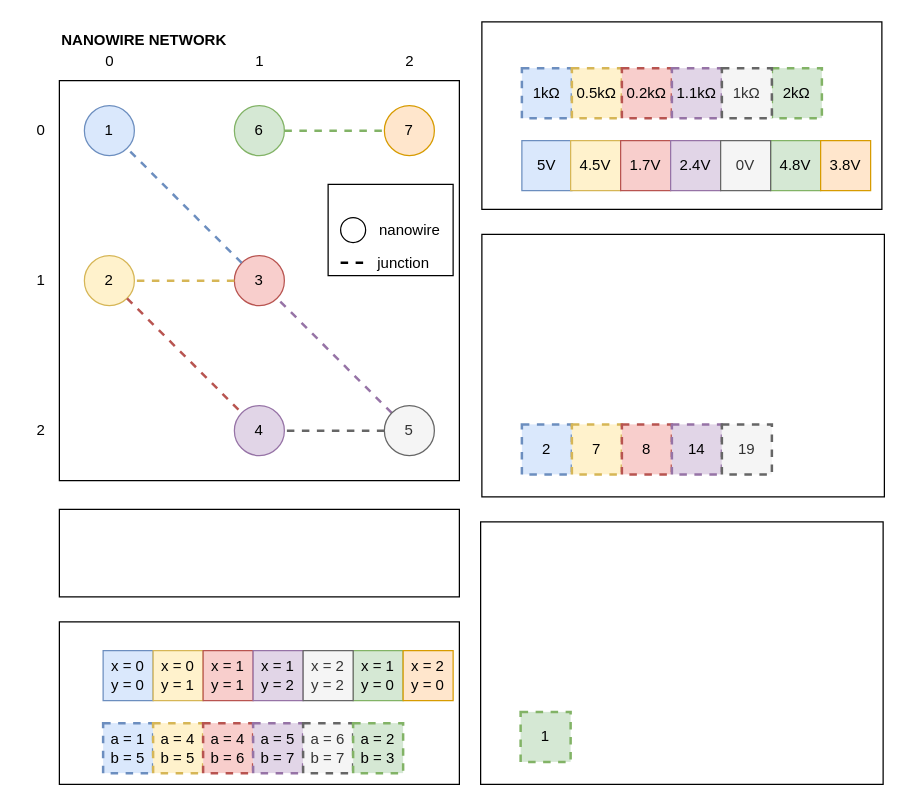
Image size: 906x806. Some labels were removed from this diagram. The box of each missing label's shape, as (x1, y1, x2, y2) in pixels:
CONNECTED COMPONENT "0" ws_count = 5 js_count = 5 ws_skip = 0 js_skip = 0 Is =: (481, 233, 884, 497)
CONNECTED COMPONENT "1" ws_count = 2 js_count = 1 ws_skip = 5 js_skip = 5 Is =: (479, 521, 883, 784)
DATASHEET wires_count = 7 ...: (58, 508, 459, 597)
Legend: (327, 183, 453, 276)
NETWORK STATE Ys = Vs =: (481, 21, 882, 209)
NETWORK TOPOLOGY Ws = js_count = 6 Js =: (58, 621, 459, 784)
